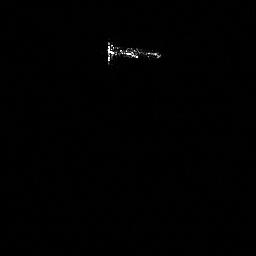ship: (107, 42, 161, 59)
